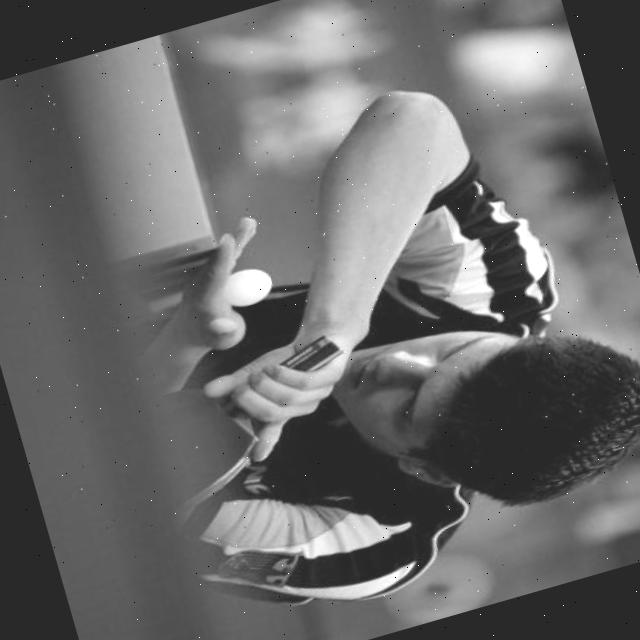ping-pong-ball: (214, 260, 278, 312)
